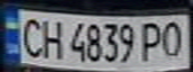3: (100, 20, 121, 63)
4: (63, 18, 87, 62)
8: (84, 20, 106, 63)
9: (118, 20, 139, 64)
C: (15, 14, 45, 58)
H: (36, 16, 66, 60)
O: (157, 18, 190, 60)
P: (136, 19, 166, 62)
